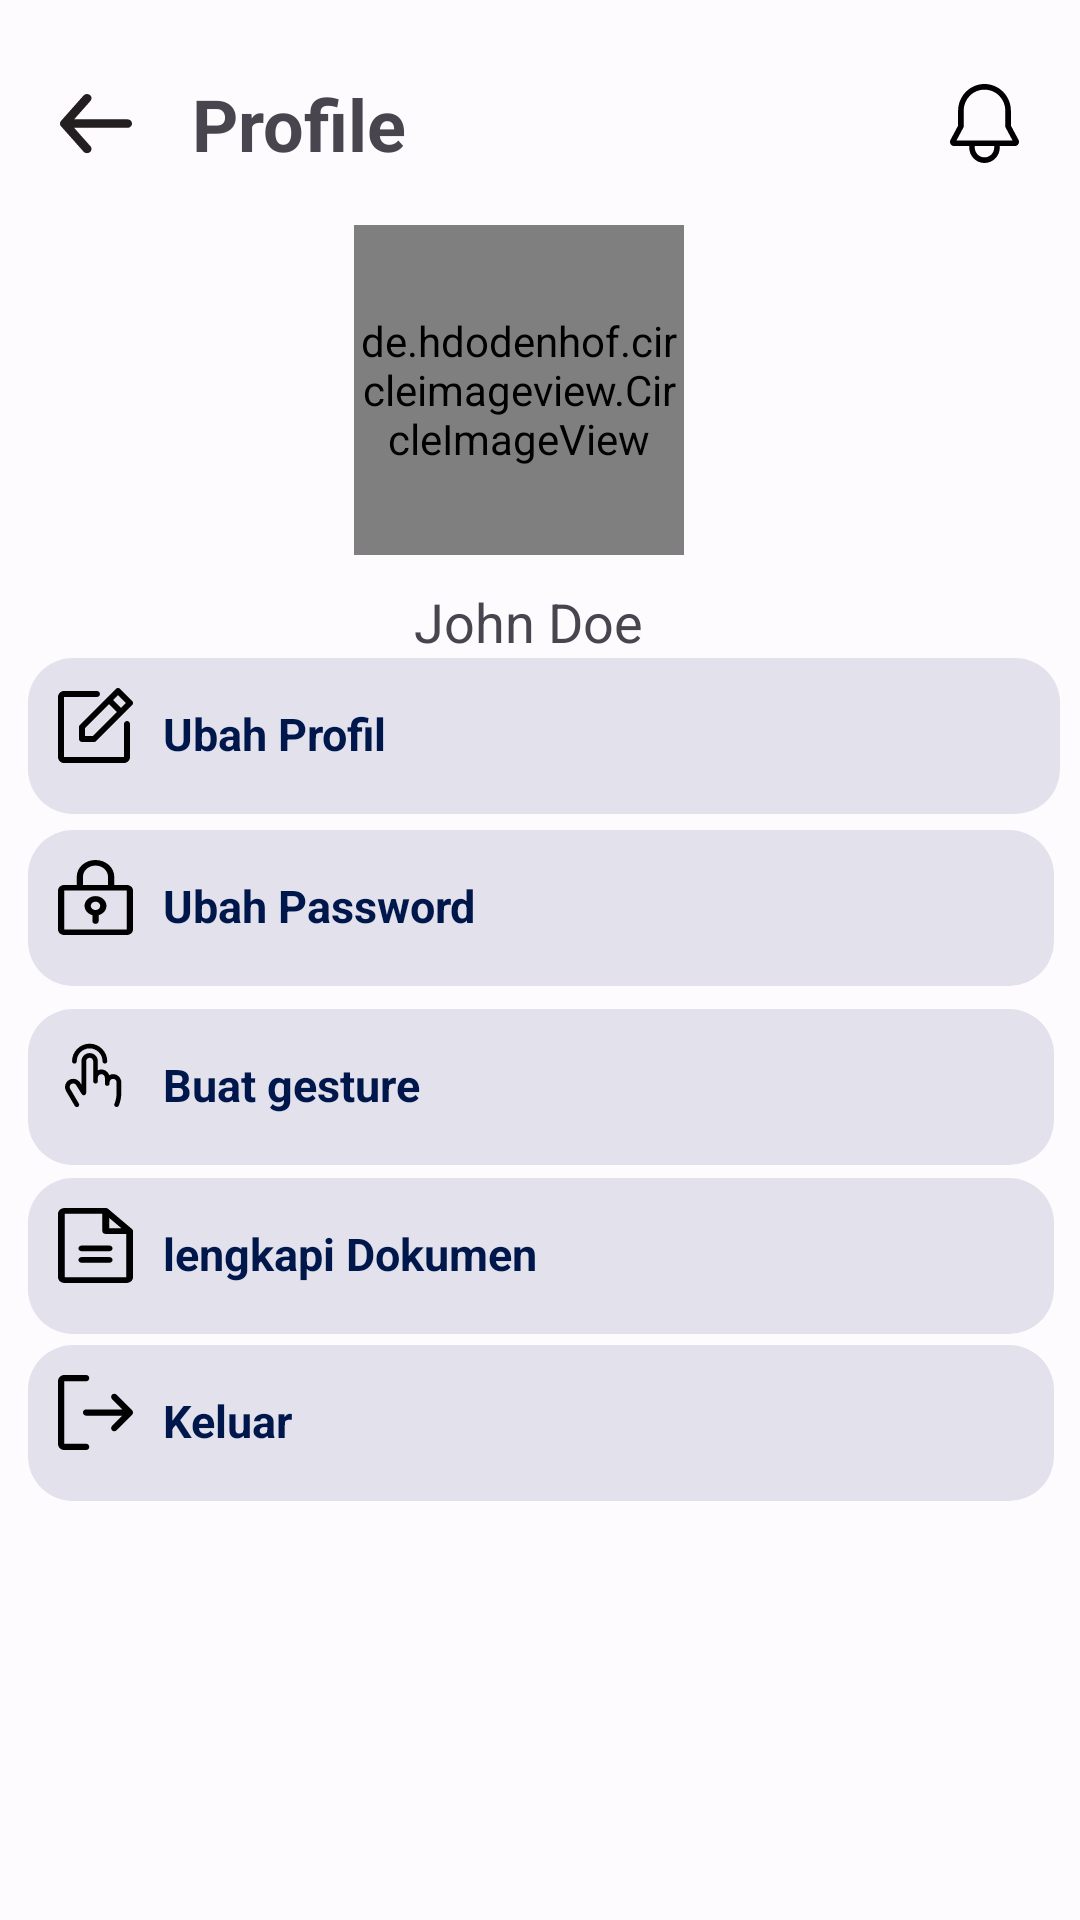

Named icons in this screenshot (1080 x 1920) and their centers, point (x, y):
back: point (96, 123)
handtap: point (93, 1075)
notif profile: point (984, 123)
